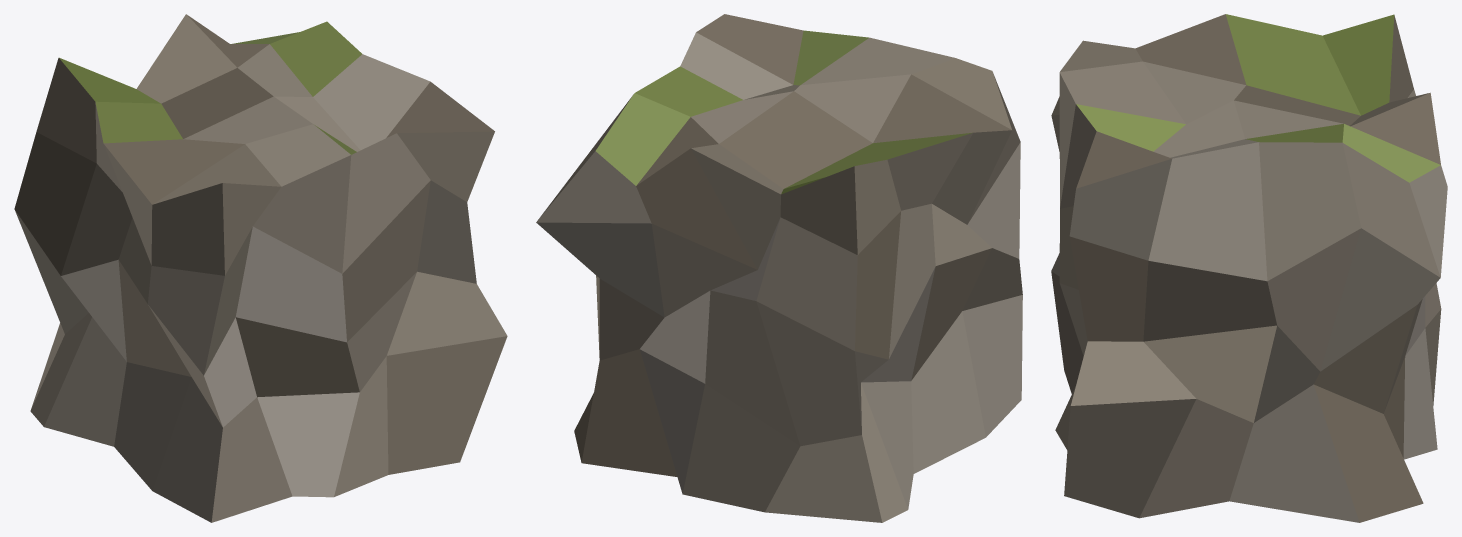
File: Granite_a.fbx
3 renders of one model, left to right at view 1: azimuth 30°, elevation 25°; view 2: azimuth 150°, elevation 25°; view 3: azimuth 270°, elevation 25°, orthographic. The views are drawn at different scales.
Parts seen in each view (by area): view 1: Granite_a; view 2: Granite_a; view 3: Granite_a.
Boxes of the visible parts, bbox=[...] form: Granite_a: bbox=[14, 14, 507, 522]; Granite_a: bbox=[536, 14, 1022, 522]; Granite_a: bbox=[1051, 14, 1447, 522].
Size of what is drawn, in the model's own units: 1 by 1 by 1.
